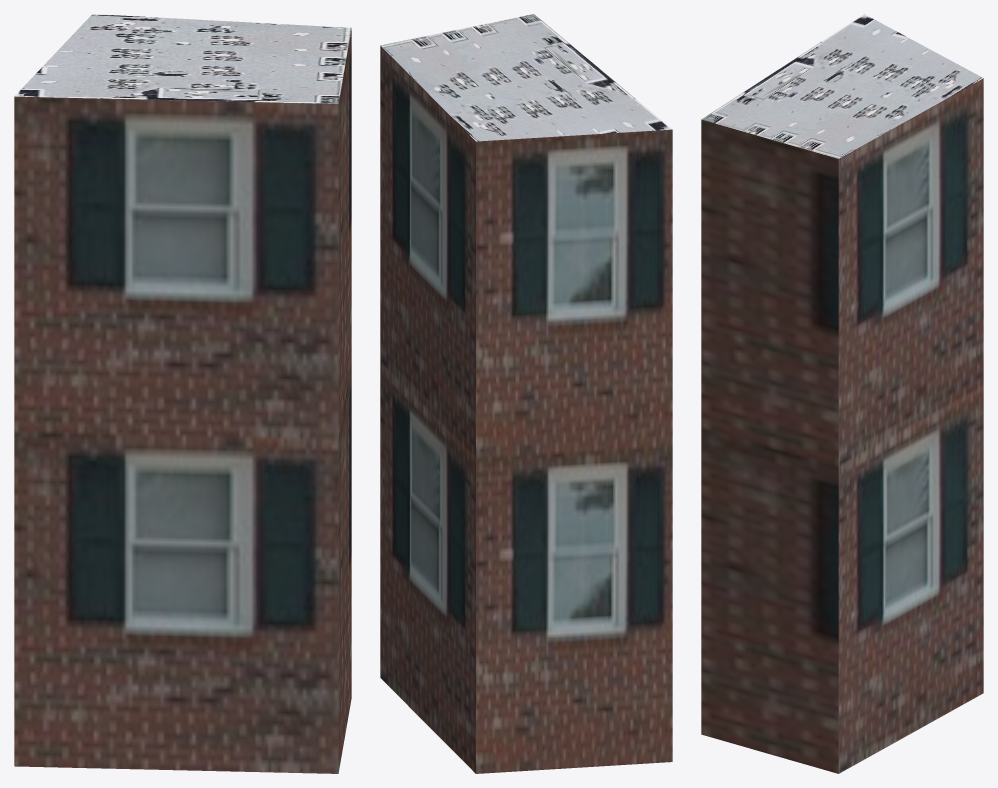
The model's file is ResTex__2302.fbx.
3 views of the same model, side by side, from view 1: azimuth 30°, elevation 25°; view 2: azimuth 150°, elevation 25°; view 3: azimuth 270°, elevation 25° (orthographic). The views are drawn at different scales.
Visible parts, largest first — view 1: CityEngineMaterial_14_m, CityEngineMaterial_8_m; view 2: CityEngineMaterial_14_m, CityEngineMaterial_8_m; view 3: CityEngineMaterial_14_m, CityEngineMaterial_8_m.
Part boxes in pixels (x1,y1,x2,y2): CityEngineMaterial_14_m: [14, 29, 351, 773]; CityEngineMaterial_8_m: [14, 14, 351, 103]; CityEngineMaterial_14_m: [380, 46, 672, 773]; CityEngineMaterial_8_m: [380, 14, 672, 141]; CityEngineMaterial_14_m: [701, 78, 983, 773]; CityEngineMaterial_8_m: [701, 14, 983, 158].
Bounding box in the file's own units: 3.03 × 6 × 2.5.
Materials: 2 (2 with a texture image).
